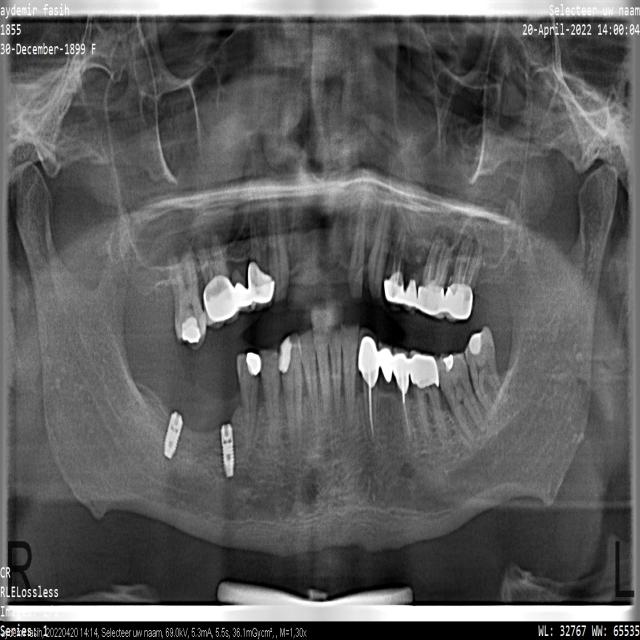Canine: (267, 163, 289, 303), (280, 333, 301, 461), (368, 194, 391, 297), (359, 329, 377, 445)
Incisores: (297, 330, 319, 425), (348, 196, 367, 299), (341, 323, 359, 427), (312, 323, 330, 414), (328, 330, 342, 416)
Premolars: (394, 348, 417, 457), (229, 213, 254, 312), (385, 208, 408, 310), (246, 209, 267, 312), (237, 355, 258, 457), (402, 226, 424, 314), (259, 351, 279, 434), (379, 343, 393, 433)
molars: (437, 353, 485, 442), (171, 238, 207, 350), (465, 327, 509, 413), (200, 235, 238, 328), (409, 351, 447, 438), (445, 234, 482, 321), (417, 234, 449, 319)
